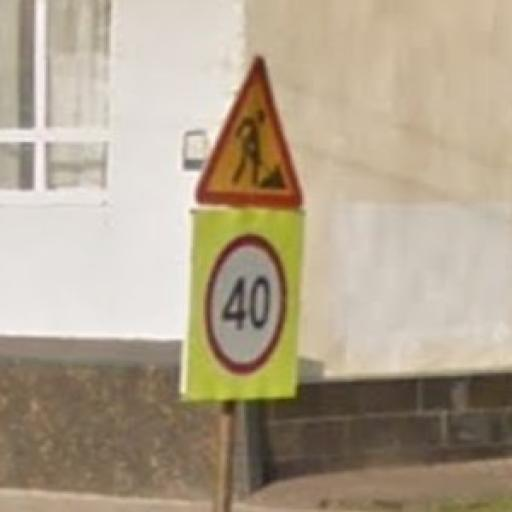traffic_sign: (196, 56, 305, 207), (206, 231, 289, 376)
